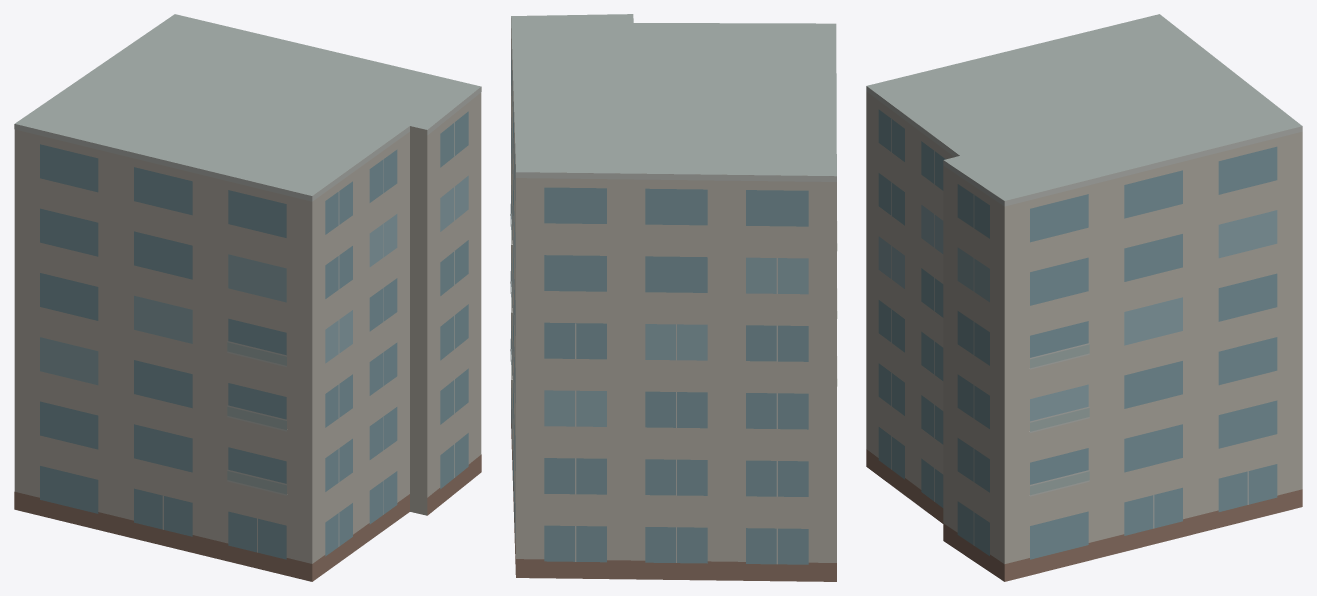
File: survey-upis-32597778.glb
3 views of the same model, side by side, from view 1: azimuth 30°, elevation 25°; view 2: azimuth 150°, elevation 25°; view 3: azimuth 270°, elevation 25° (orthographic). The views are drawn at different scales.
Visible parts, largest first — view 1: survey-upis-32597778.tmp; view 2: survey-upis-32597778.tmp; view 3: survey-upis-32597778.tmp.
Part boxes in pixels (x1,y1,x2,y2): survey-upis-32597778.tmp: (14,14,481,581); survey-upis-32597778.tmp: (510,14,837,581); survey-upis-32597778.tmp: (866,14,1302,581).
Size of the model in its own units: 17.81 by 16.9 by 17.55.
